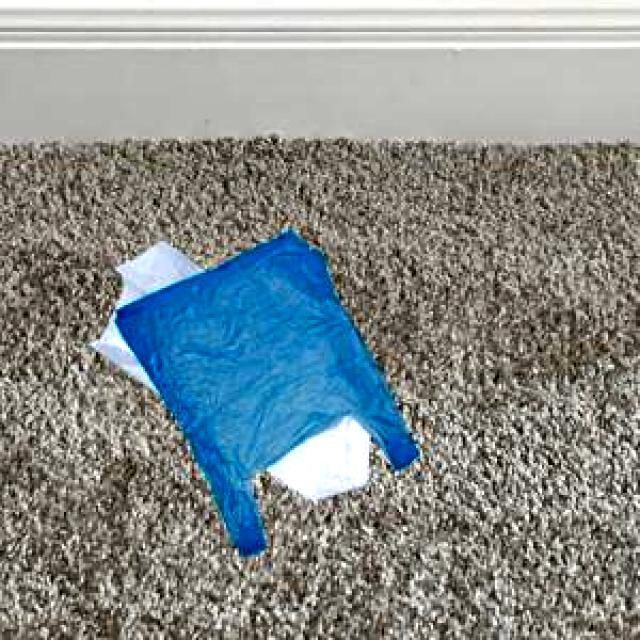Plastic_Bag: (112, 229, 415, 554), (86, 238, 366, 496)
